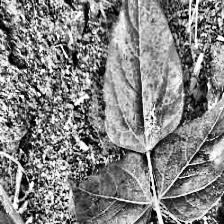ALS: (102, 0, 182, 142), (178, 96, 224, 208), (73, 164, 146, 224)
